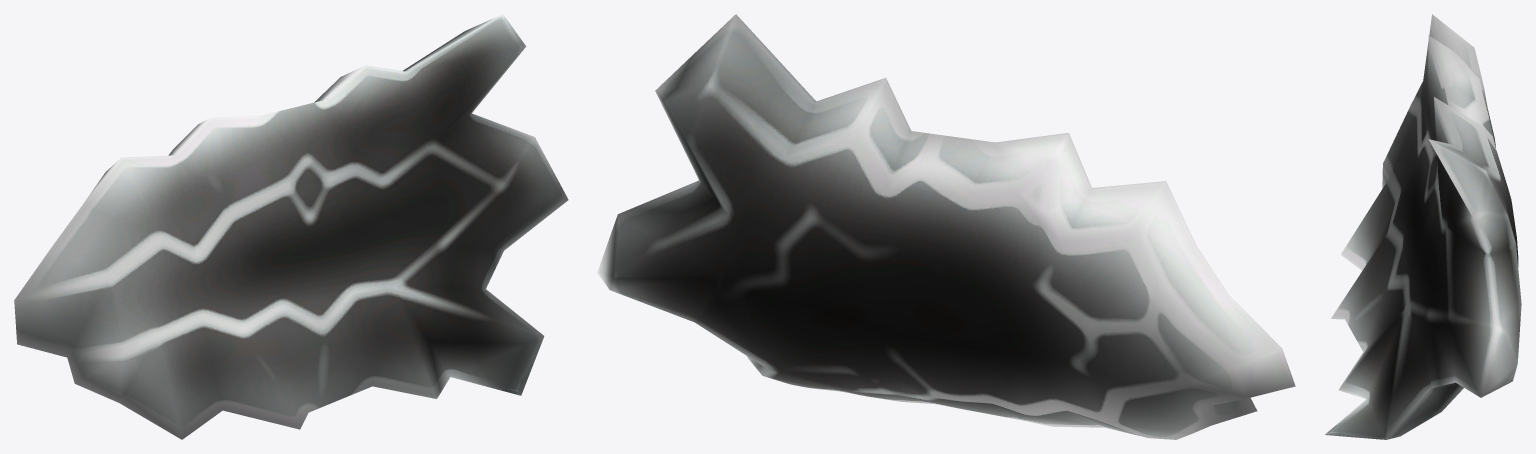
The model's file is item_weazemmgm2501-et07.glb.
3 renders of one model, left to right at view 1: azimuth 30°, elevation 25°; view 2: azimuth 150°, elevation 25°; view 3: azimuth 270°, elevation 25°, orthographic. The views are drawn at different scales.
Visible parts, largest first — view 1: FlyffMesh; view 2: FlyffMesh; view 3: FlyffMesh.
Boxes of the visible parts, x1,y1,x2,y2 form: FlyffMesh: (14,14,568,439); FlyffMesh: (597,14,1295,439); FlyffMesh: (1325,14,1521,439).
Bounding box in the file's own units: 0.4573 × 0.2496 × 0.1425.
1 material, 1 textured.
